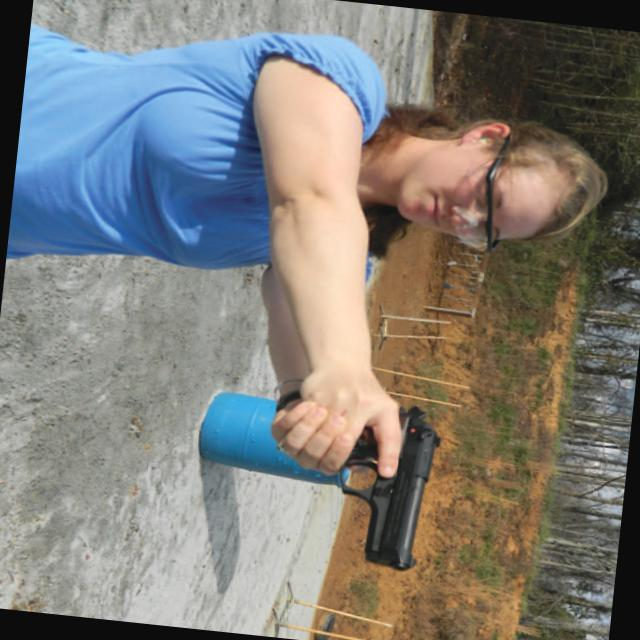handgun: (262, 392, 442, 573)
